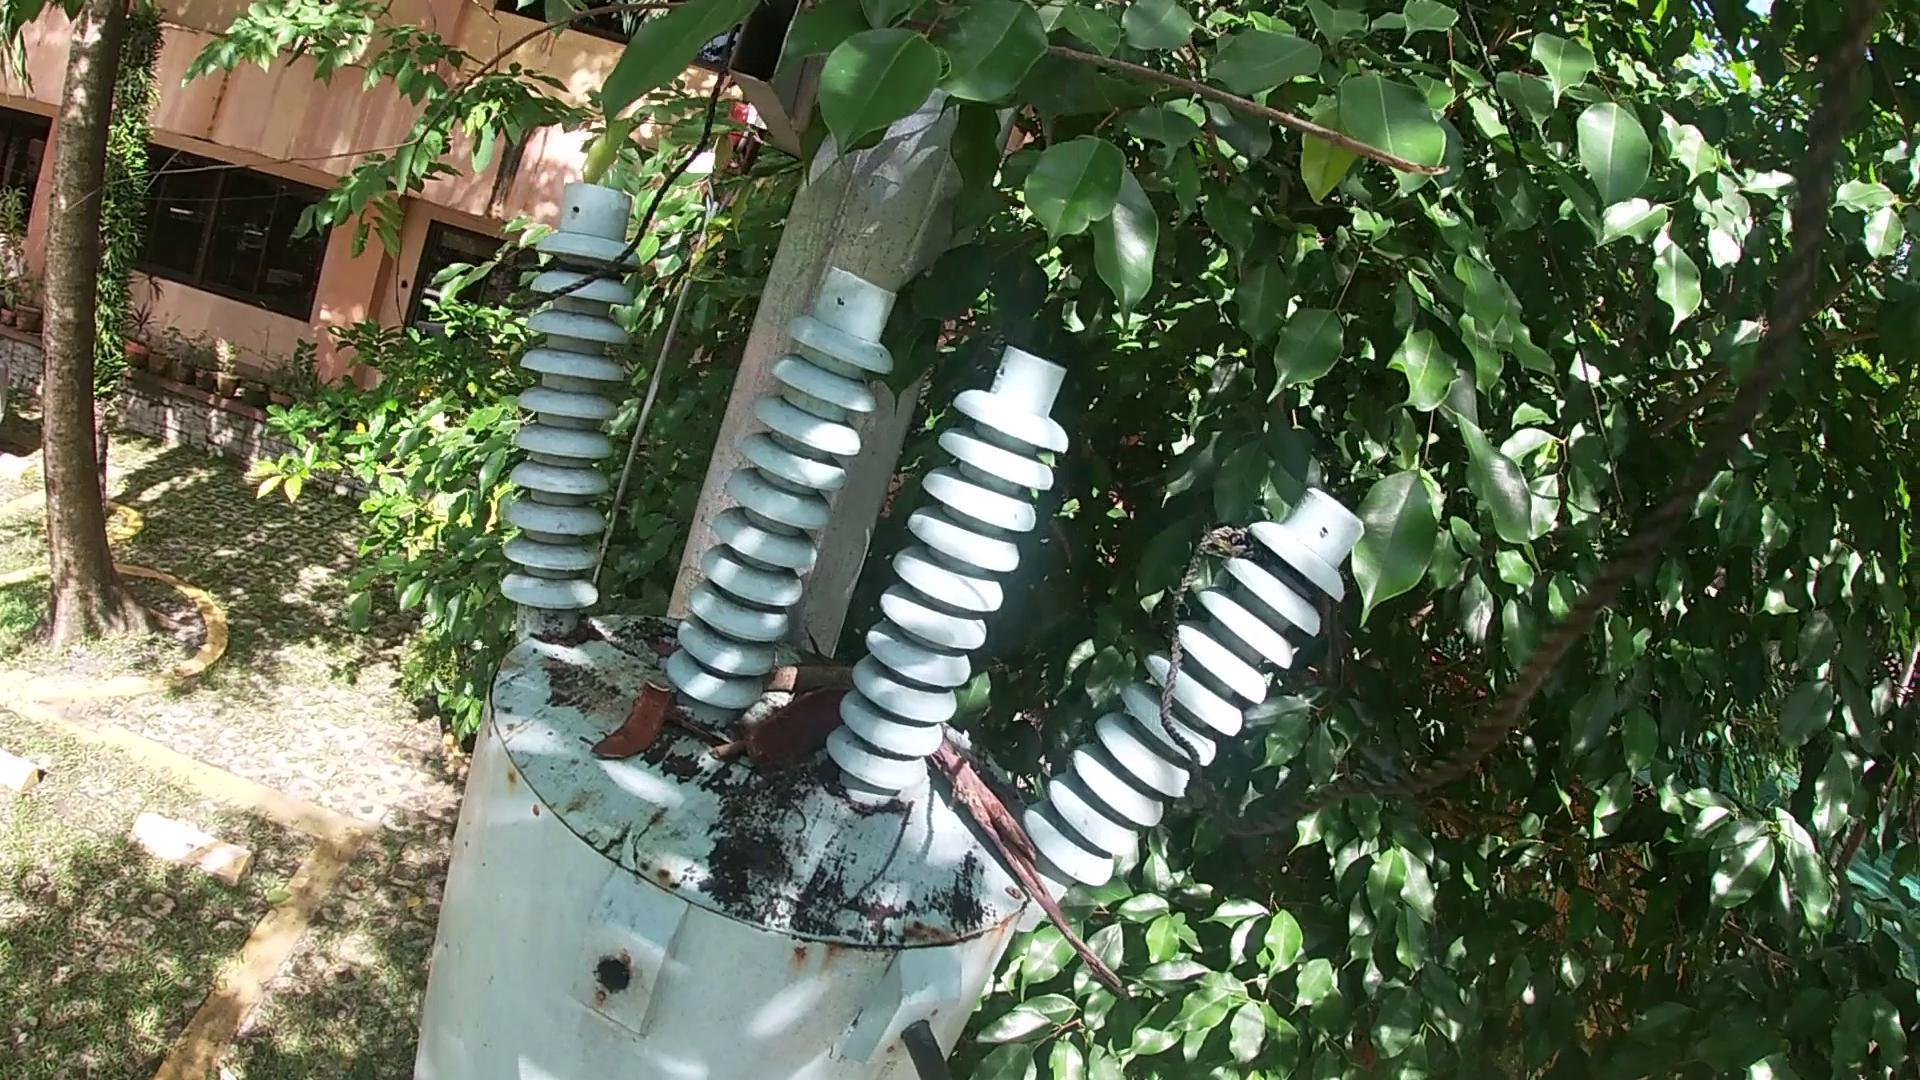leaf: (676, 712, 731, 745)
mahogany fruit: (736, 694, 851, 771), (593, 675, 673, 774)
tree branch: (49, 1, 1461, 185), (926, 735, 1149, 992), (833, 796, 916, 928), (727, 770, 824, 848), (756, 665, 862, 684), (700, 741, 736, 771)
